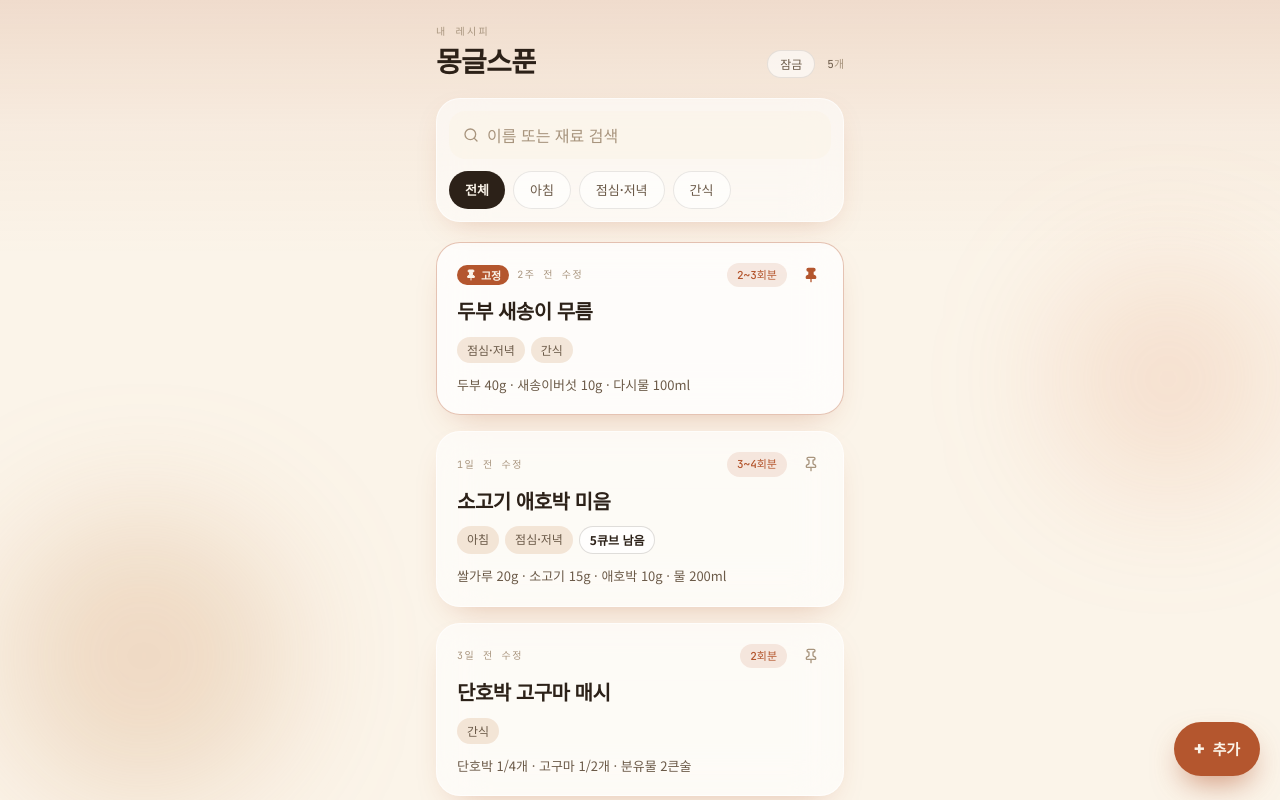
Test case: RecipeListScreen › unpins a recipe from its card
The width and height of the screenshot is (1280, 800).
Expected: the heading "소고기 애호박 미음" is shown, 457,486 -> 610,514
Expected: the button that starts with "2주 전 수정" shows "두부 새송이 무름", 436,242 -> 844,415
Click the button named "고정 해제": (811, 275) 795,259 -> 827,291
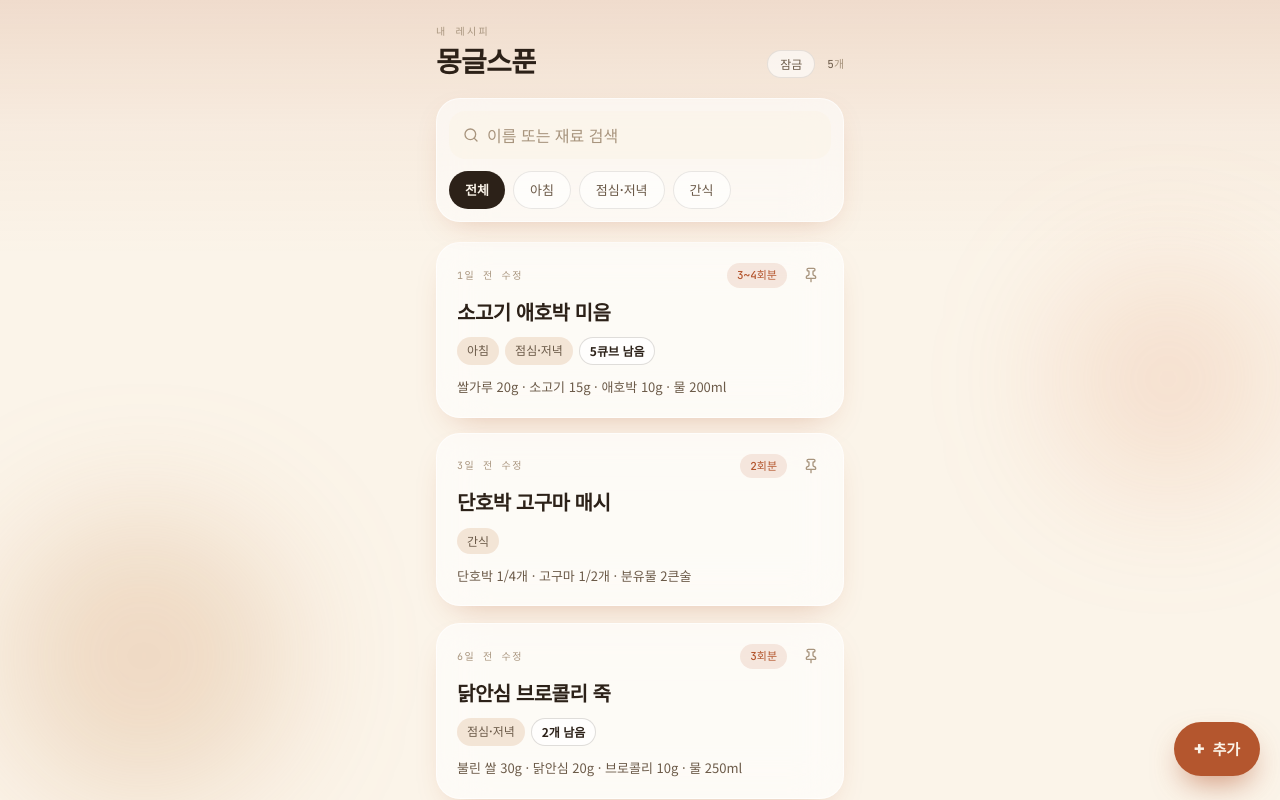
Expected: the heading "소고기 애호박 미음" is shown, 457,296 -> 610,325
Expected: the text "고정" is gone
